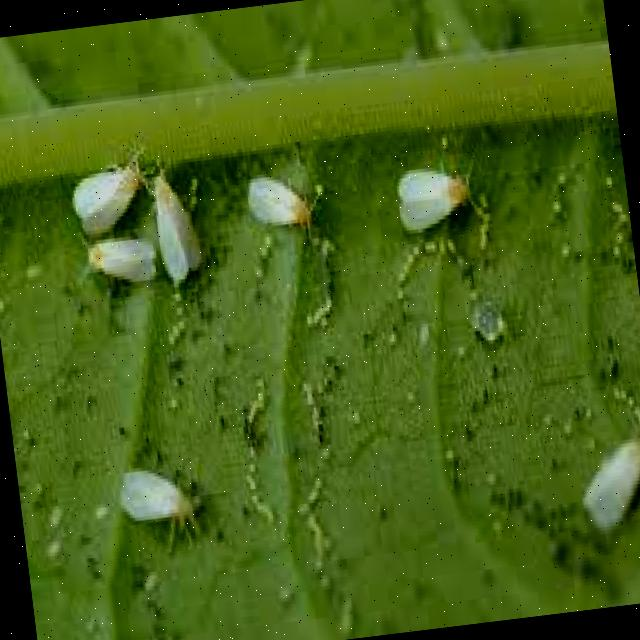whitefly: (61, 90, 640, 640)
